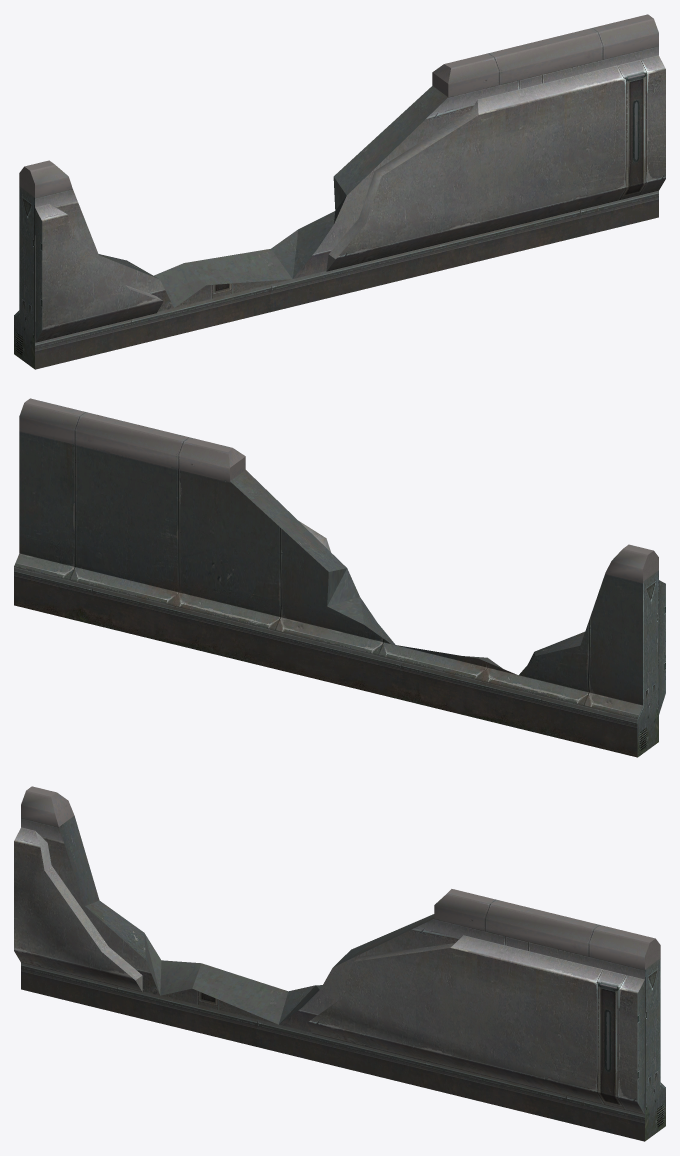
File: Cover_Qiang07.glb
3 views of the same model, one above another, from view 1: azimuth 30°, elevation 25°; view 2: azimuth 150°, elevation 25°; view 3: azimuth 330°, elevation 25° (orthographic).
Parts seen in each view (by area): view 1: xiutz_qiang07; view 2: xiutz_qiang07; view 3: xiutz_qiang07.
Boxes of the visible parts, left/top/right/bottom form: xiutz_qiang07: left=14, top=14, right=665, bottom=369; xiutz_qiang07: left=14, top=398, right=665, bottom=757; xiutz_qiang07: left=14, top=786, right=665, bottom=1141.
Size of the model in its own units: 11.44 by 3.42 by 0.8976.
Materials: 1 (1 with a texture image).
